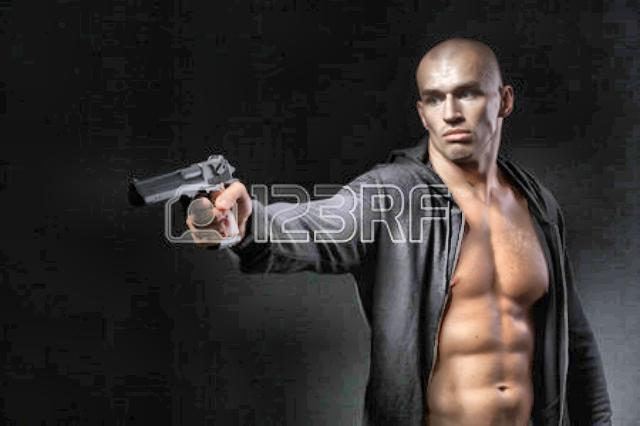pistol: (132, 152, 242, 244)
